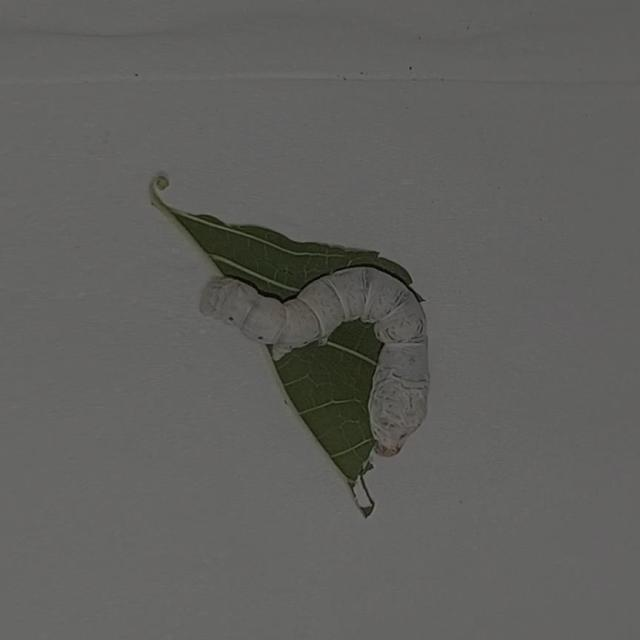Healthy: (188, 247, 437, 462)
